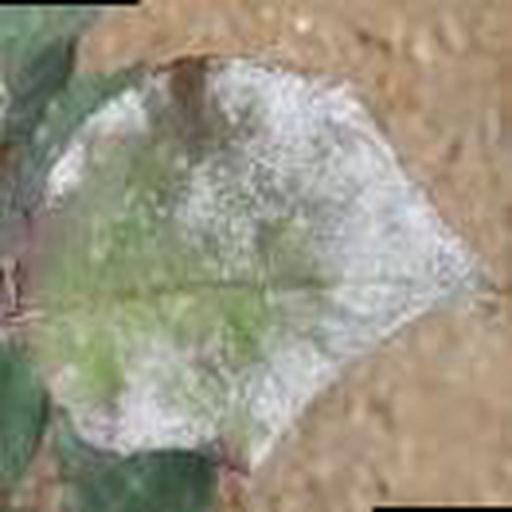powdery_mildew: (28, 56, 477, 466)
